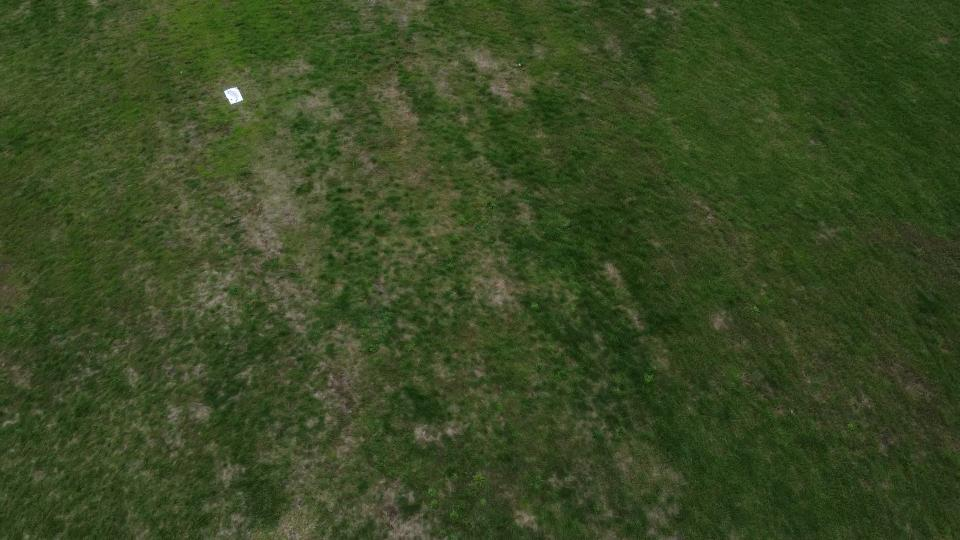zebra_single: (226, 90, 240, 103)
